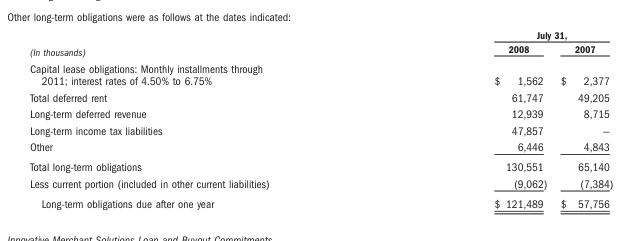table: (29, 28, 612, 209)
table column: (29, 28, 380, 209), (380, 28, 552, 209), (552, 28, 612, 209)
table column header: (29, 28, 612, 59)
table row: (29, 59, 612, 88), (29, 174, 612, 193), (29, 41, 612, 59), (29, 138, 612, 156), (29, 156, 612, 174), (29, 88, 612, 105), (29, 121, 612, 138), (29, 105, 612, 121), (29, 193, 612, 209), (29, 28, 612, 41)
table spanning cell: (29, 28, 380, 59), (380, 28, 612, 41)
